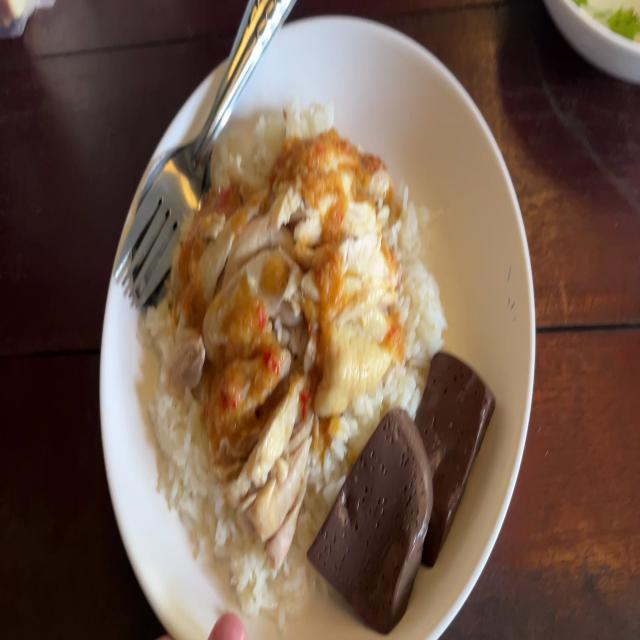chicken_rice: (194, 158, 382, 449)
noodle: (313, 407, 436, 622), (407, 344, 482, 530)
